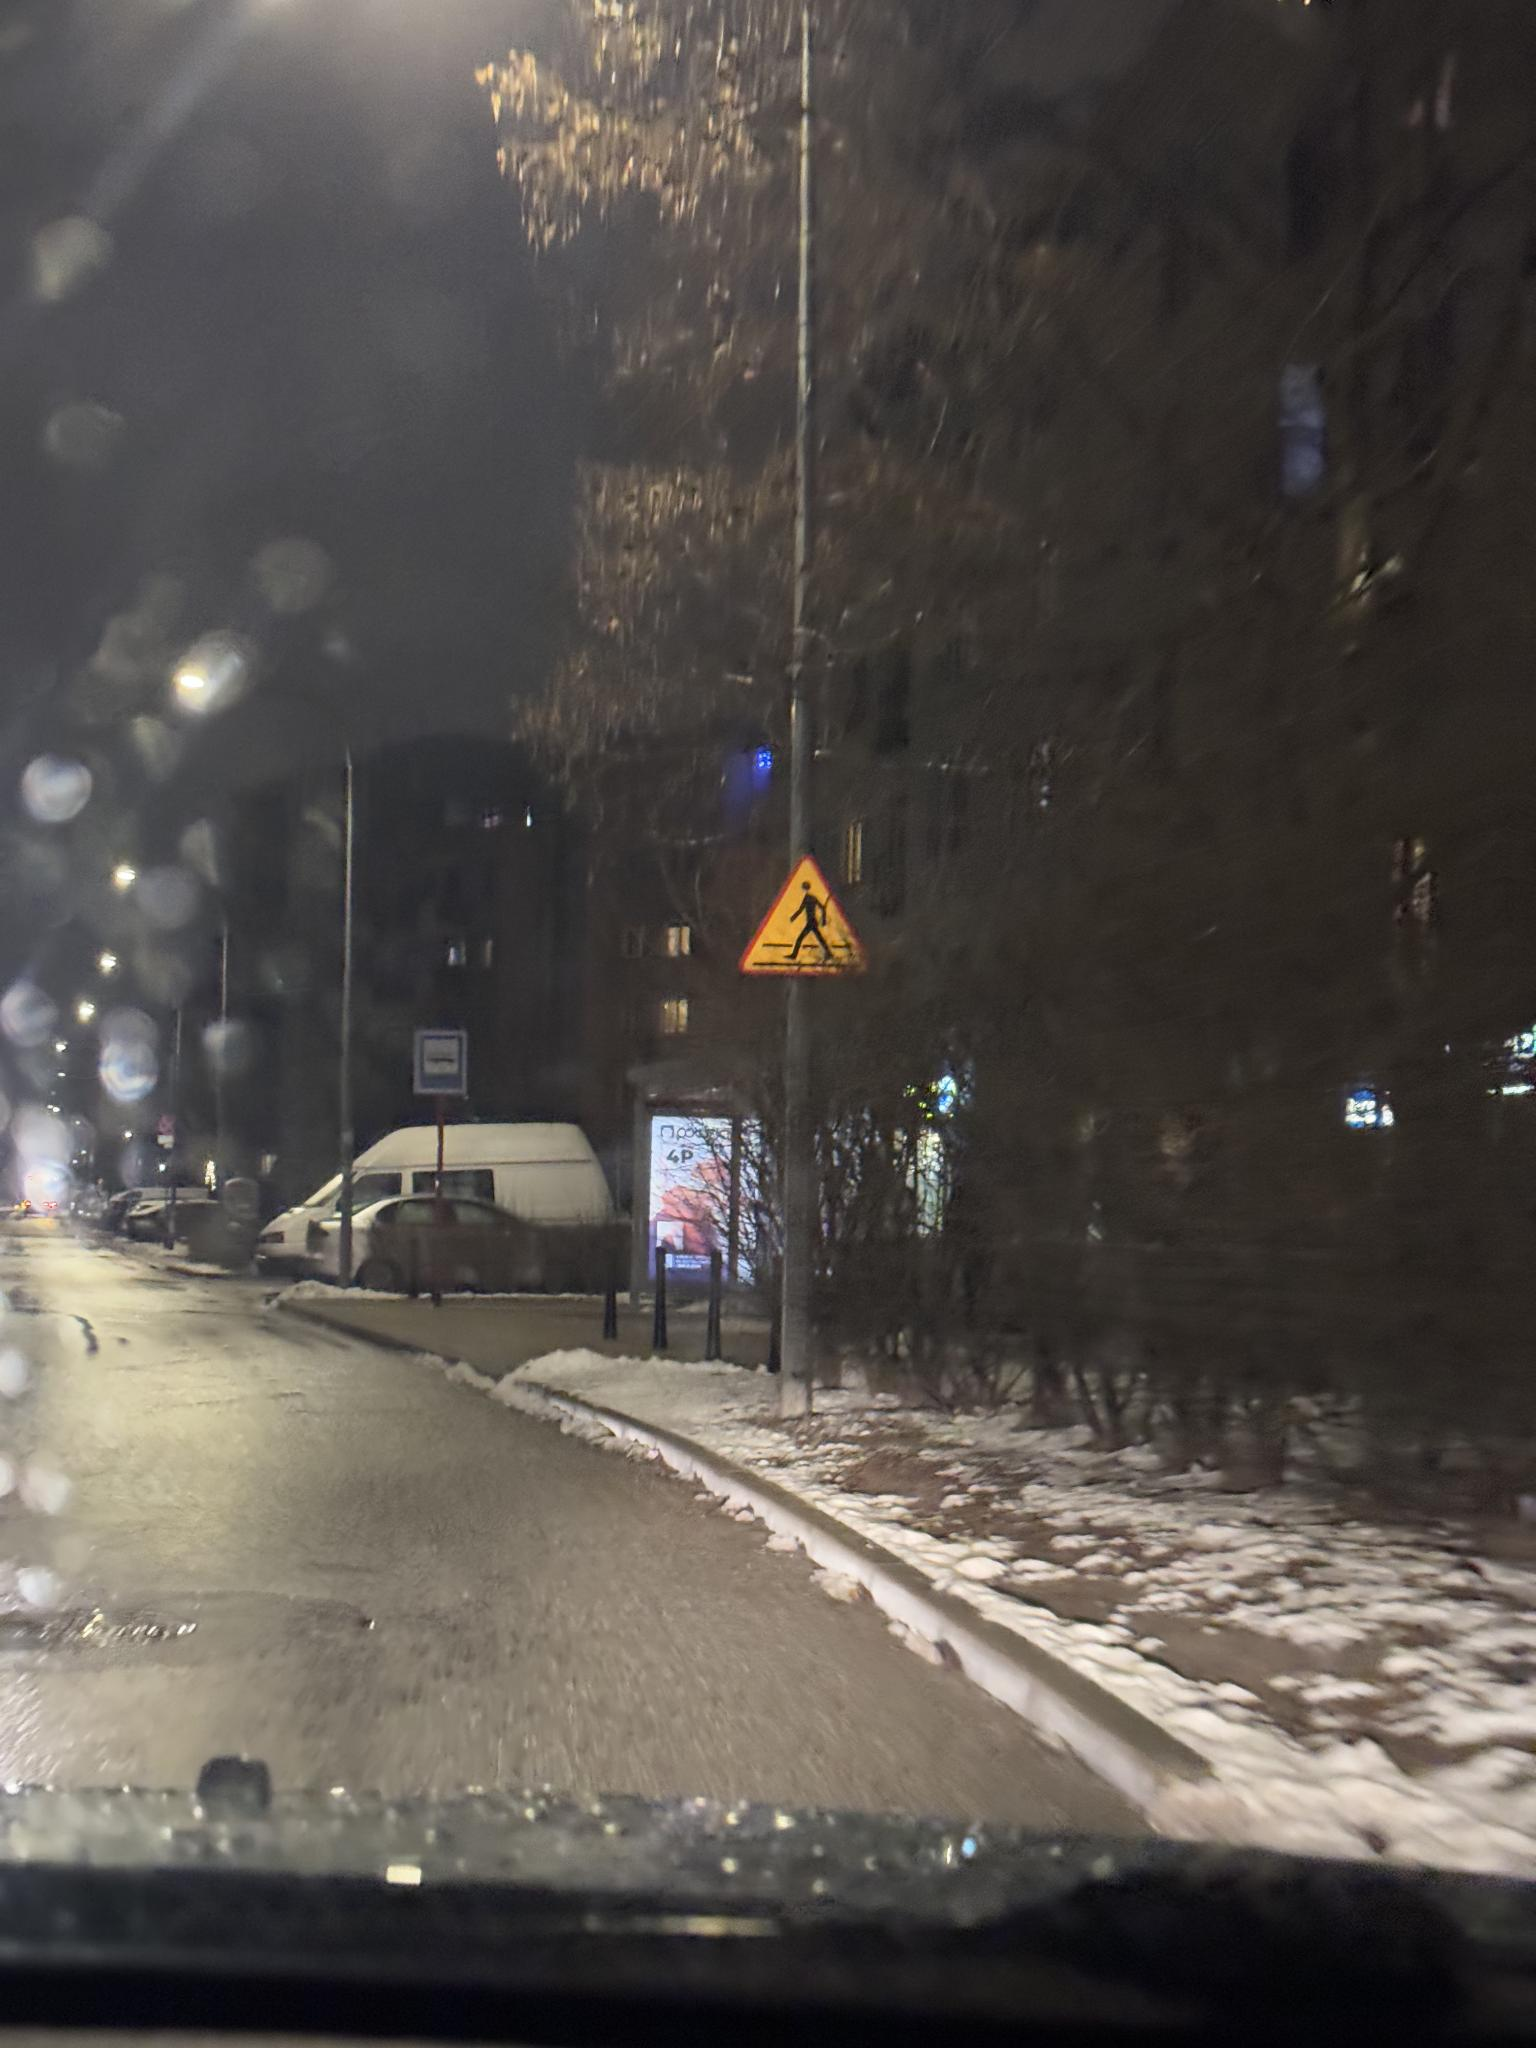information: (421, 1037, 461, 1087)
warning: (741, 855, 868, 979)
